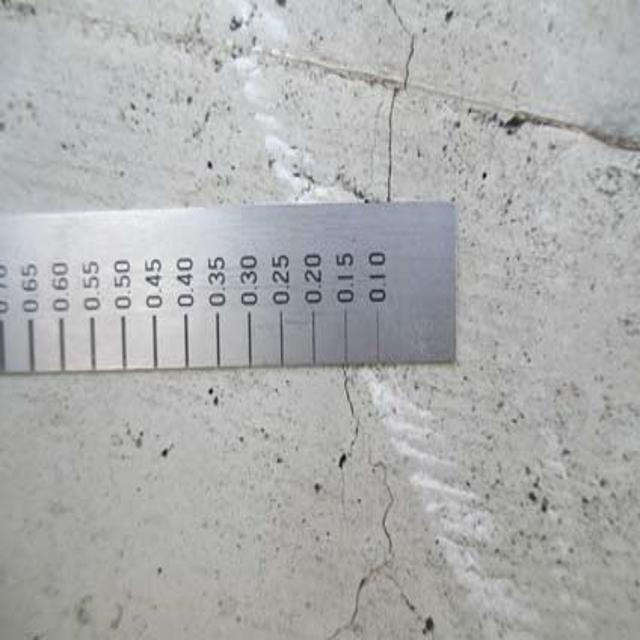crack: (330, 368, 419, 633), (363, 0, 421, 207)
